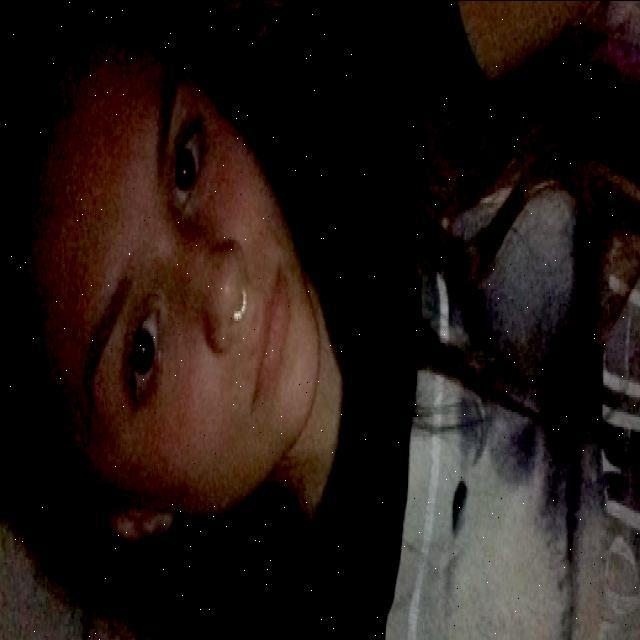face_no_mask: (16, 53, 316, 541)
